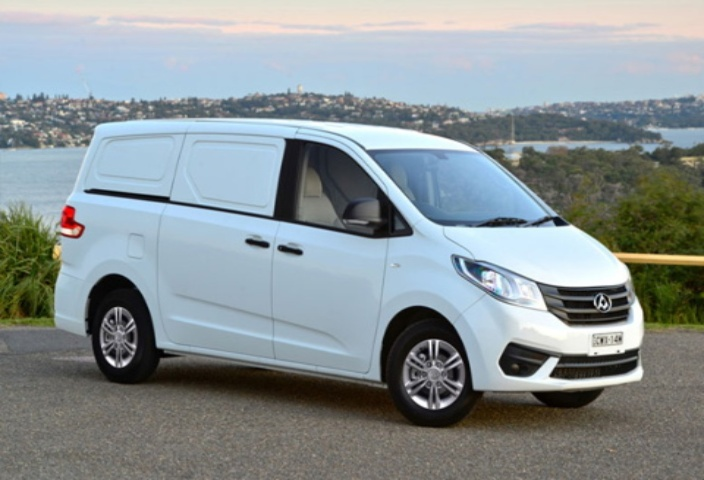van: (45, 113, 655, 424)
